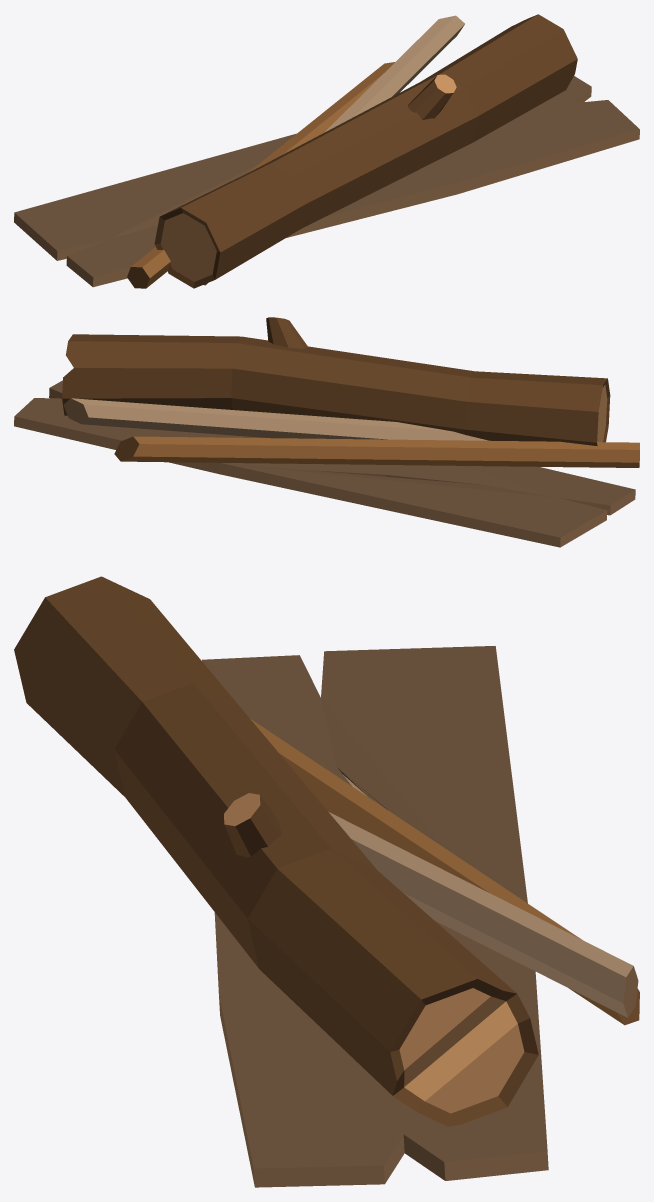
Rendered from Wood_3D.glb.
The picture shows the model from 3 angles, top to bottom: view 1: azimuth 30°, elevation 25°; view 2: azimuth 150°, elevation 25°; view 3: azimuth 270°, elevation 25°; orthographic projection. The views are drawn at different scales.
Parts seen in each view (by area): view 1: wood; view 2: wood; view 3: wood.
Part boxes in pixels (x1,y1,x2,y2): wood: (14, 14, 639, 288); wood: (14, 317, 639, 547); wood: (14, 576, 639, 1187).
Size of the model in its own units: 0.6377 by 0.1225 by 0.3267.
Materials: 1 (1 with a texture image).
